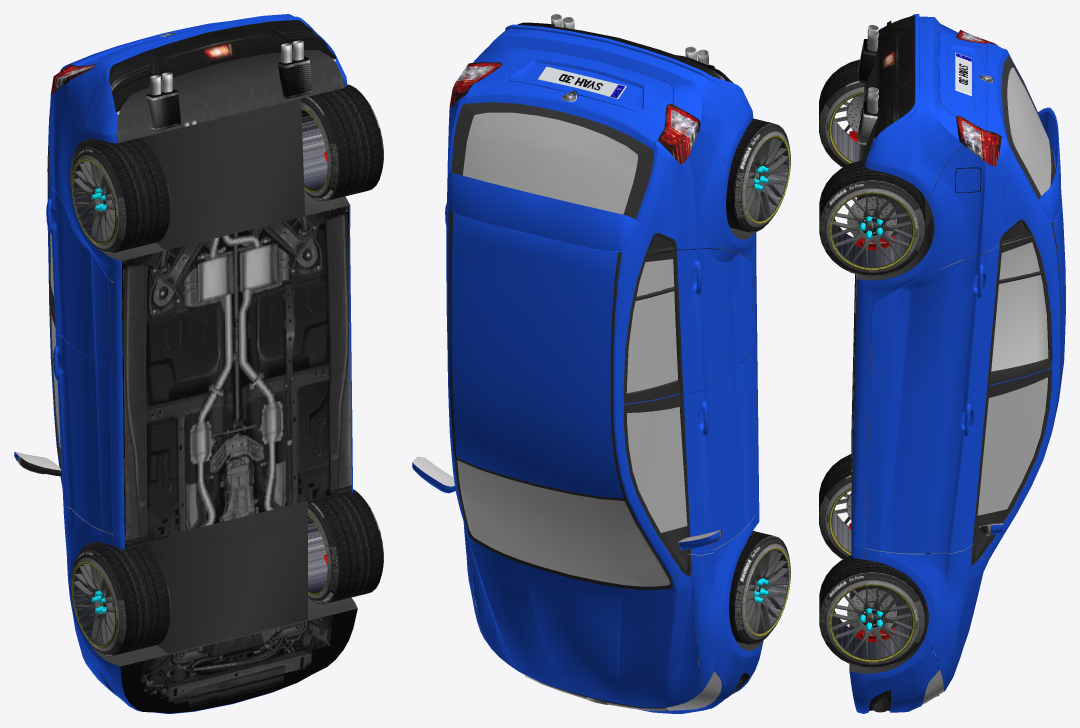
File: suprimaCar.FBX
3 renders of one model, left to right at view 1: azimuth 30°, elevation 25°; view 2: azimuth 150°, elevation 25°; view 3: azimuth 270°, elevation 25°, orthographic. The views are drawn at different scales.
Parts seen in each view (by area): view 1: Body, Rear_Bumper, Left_Front_Door, Rear_Left_Wheel, Front_Left_Wheel, Rear_Right_Wheel, Left_Rear_Door, Front_Right_Wheel, Front_Bumper, Bonnet; view 2: Body, Bonnet, Hood, Left_Front_Door, Left_Rear_Door, Rear_Bumper, Spoiler, Rear_Left_Wheel, Front_Left_Wheel, Taillight, Front_Bumper, Right_Front_Door (+2 smaller); view 3: Body, Right_Front_Door, Right_Rear_Door, Rear_Bumper, Rear_Right_Wheel, Bonnet, Front_Right_Wheel, Front_Bumper, Rear_Left_Wheel, Front_Left_Wheel, Taillight, Spoiler (+2 smaller).
Boxes of the visible parts, <box> form: Body: <box>47,40,357,713</box>; Rear_Bumper: <box>66,14,347,153</box>; Left_Front_Door: <box>14,291,112,533</box>; Rear_Left_Wheel: <box>71,138,170,253</box>; Front_Left_Wheel: <box>71,544,170,656</box>; Rear_Right_Wheel: <box>301,84,383,201</box>; Left_Rear_Door: <box>46,155,110,367</box>; Front_Right_Wheel: <box>308,489,383,604</box>; Front_Bumper: <box>72,606,280,713</box>; Bonnet: <box>66,21,229,85</box>; Body: <box>446,14,762,710</box>; Bonnet: <box>451,47,673,219</box>; Hood: <box>470,543,701,707</box>; Left_Front_Door: <box>623,349,755,555</box>; Left_Rear_Door: <box>623,249,753,403</box>; Rear_Bumper: <box>473,22,753,172</box>; Spoiler: <box>448,172,637,251</box>; Rear_Left_Wheel: <box>726,118,790,232</box>; Front_Left_Wheel: <box>729,531,790,645</box>; Taillight: <box>449,62,700,163</box>; Front_Bumper: <box>638,631,763,713</box>; Right_Front_Door: <box>412,457,455,493</box>; Body: <box>849,25,1065,696</box>; Right_Front_Door: <box>865,368,1051,553</box>; Right_Rear_Door: <box>870,236,1051,392</box>; Rear_Bumper: <box>865,14,962,202</box>; Rear_Right_Wheel: <box>819,160,925,276</box>; Bonnet: <box>939,31,1055,199</box>; Front_Right_Wheel: <box>819,555,925,668</box>; Front_Bumper: <box>849,639,939,713</box>; Rear_Left_Wheel: <box>819,59,864,167</box>; Front_Left_Wheel: <box>819,454,851,559</box>; Taillight: <box>955,30,1001,166</box>; Spoiler: <box>1038,107,1060,221</box>.
Size of the model in its own units: 3.45 by 7.26 by 2.55.
